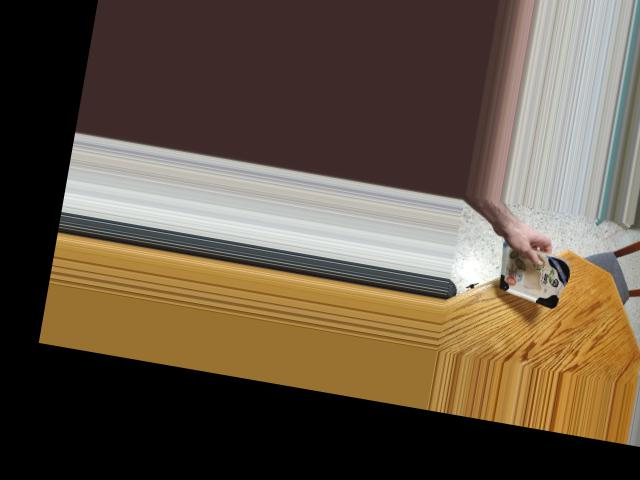cheese: (492, 235, 575, 311)
